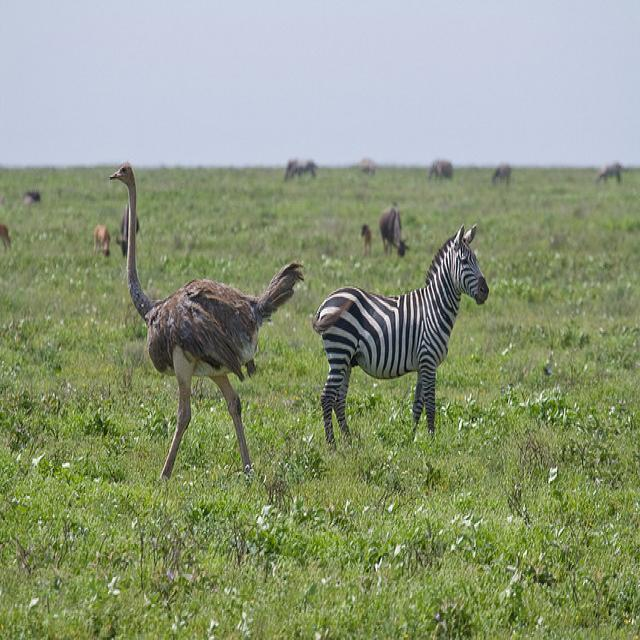cow: (377, 204, 408, 255), (282, 159, 318, 183), (488, 160, 510, 186), (425, 159, 452, 180)
